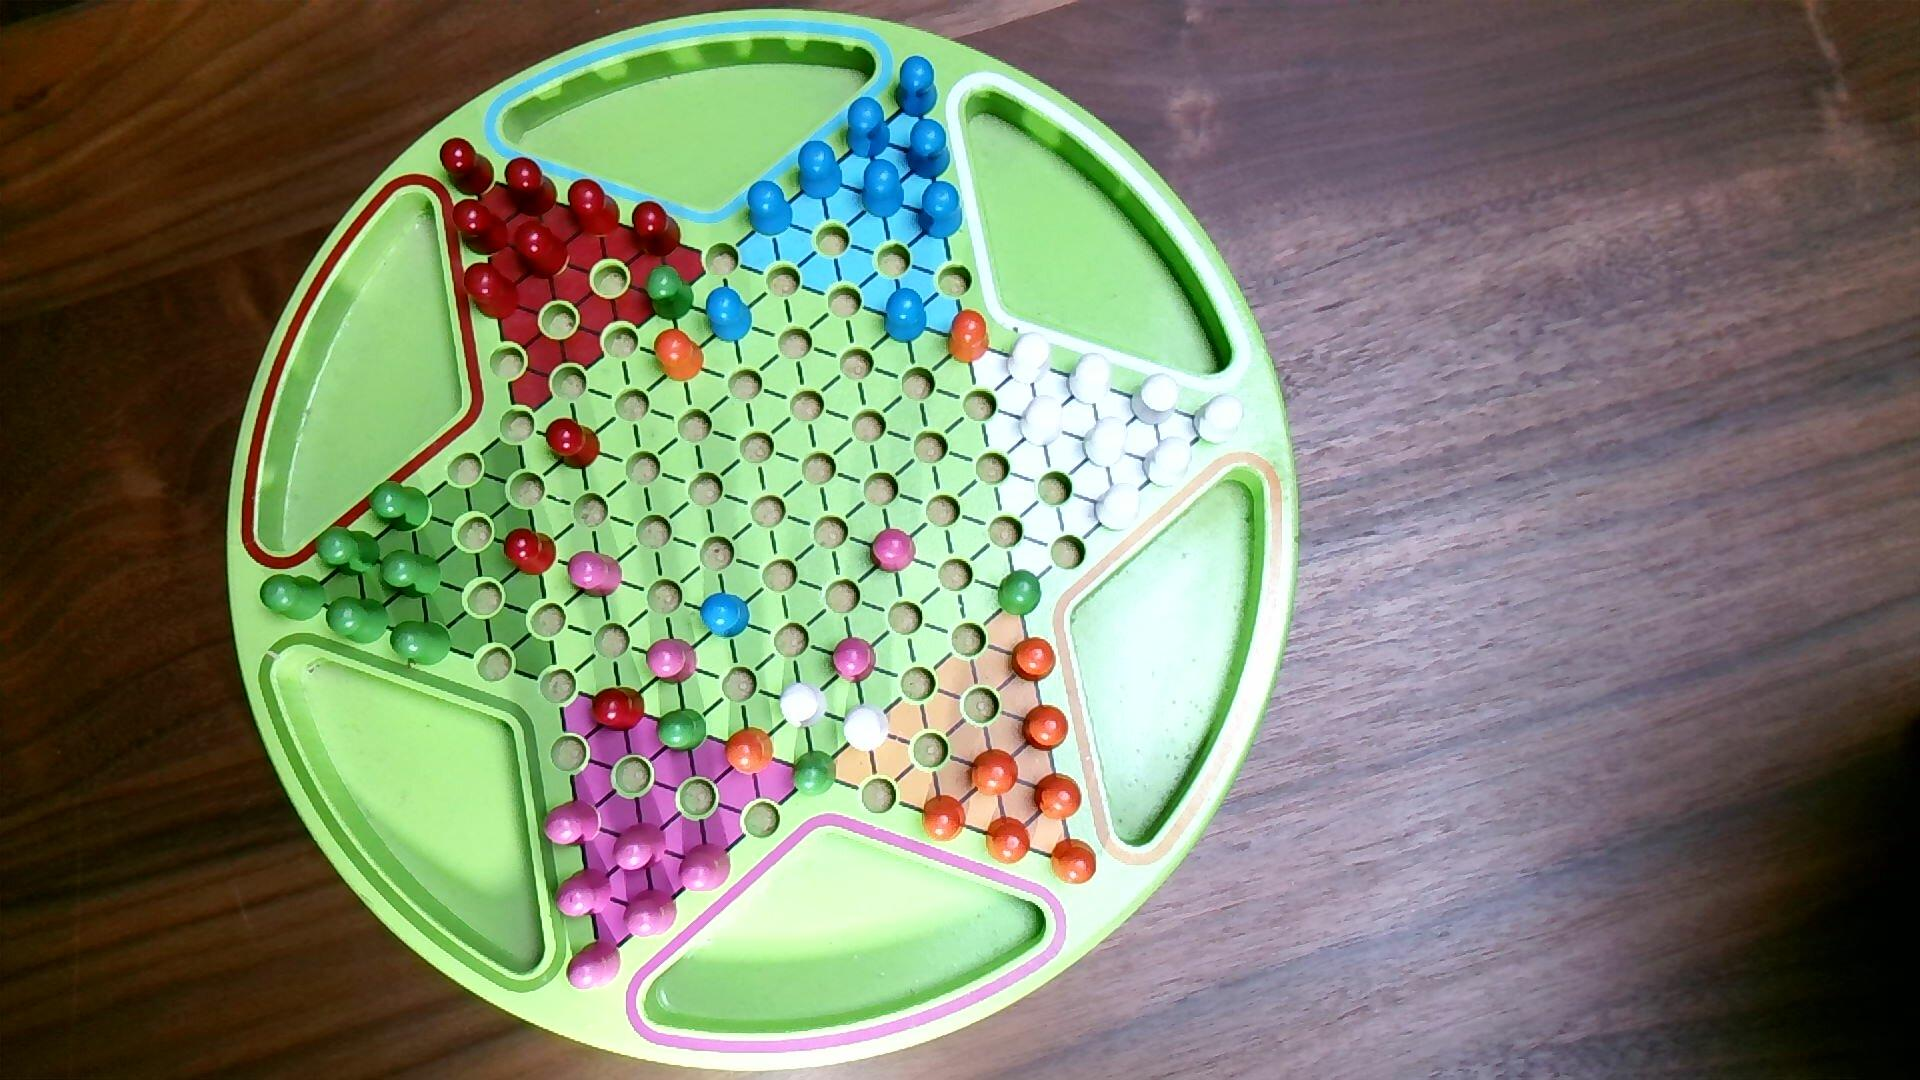B: (845, 94, 893, 161), (796, 138, 845, 202), (918, 179, 967, 243), (705, 285, 756, 345), (746, 179, 796, 239), (895, 53, 939, 120), (861, 158, 907, 222), (699, 591, 756, 642), (909, 117, 953, 182), (884, 287, 930, 347)
G: (314, 524, 382, 578), (368, 479, 434, 534), (258, 571, 328, 622), (326, 593, 392, 647), (378, 549, 444, 603), (388, 618, 454, 669), (645, 261, 698, 323), (655, 708, 709, 754), (997, 567, 1044, 618), (793, 748, 839, 800)
O: (654, 327, 707, 385), (969, 745, 1022, 799), (725, 725, 775, 779), (1034, 770, 1085, 822), (1021, 702, 1071, 754), (945, 309, 992, 365), (1048, 837, 1098, 889), (1010, 634, 1059, 684), (920, 793, 968, 843), (986, 815, 1033, 866)
R: (451, 195, 510, 258), (463, 260, 522, 322), (512, 218, 571, 280), (440, 135, 496, 198), (505, 156, 559, 218), (545, 417, 604, 472), (568, 179, 622, 239), (632, 199, 684, 258), (502, 527, 559, 578), (589, 687, 647, 732)
R2: (555, 864, 615, 922), (566, 938, 624, 993), (543, 796, 603, 848), (567, 550, 625, 601), (622, 887, 678, 940), (613, 822, 669, 873), (679, 843, 733, 894), (646, 638, 699, 687), (833, 636, 880, 687), (870, 527, 919, 575)
W: (1191, 392, 1247, 448), (1143, 433, 1196, 492), (1130, 372, 1183, 429), (1007, 330, 1058, 389), (1067, 349, 1116, 407), (1084, 414, 1131, 472), (841, 702, 891, 756), (1018, 393, 1067, 448), (1095, 480, 1143, 534), (779, 680, 829, 732)
